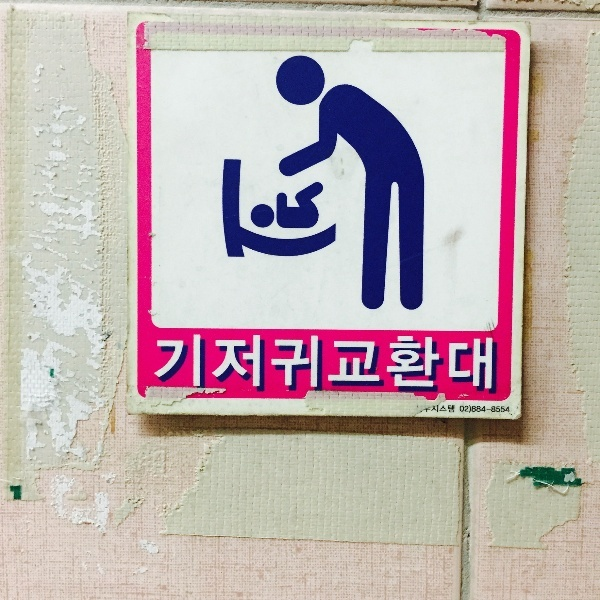text: (161, 336, 176, 396), (177, 336, 192, 396), (193, 336, 208, 396), (209, 336, 224, 396), (225, 336, 240, 396), (241, 336, 256, 396), (257, 336, 272, 396), (273, 336, 288, 396), (289, 336, 304, 396), (305, 336, 320, 396), (321, 336, 336, 396), (337, 336, 352, 396), (353, 336, 368, 396), (369, 336, 384, 396), (385, 336, 400, 396), (401, 336, 416, 396), (417, 336, 432, 396), (433, 336, 448, 396), (449, 336, 464, 396), (465, 336, 480, 396), (481, 336, 496, 396), (158, 336, 160, 396), (434, 405, 448, 413), (481, 407, 496, 413), (497, 407, 510, 413), (497, 336, 498, 396), (465, 405, 471, 414), (472, 407, 480, 413), (449, 405, 455, 413), (423, 409, 432, 413), (460, 405, 464, 414)
